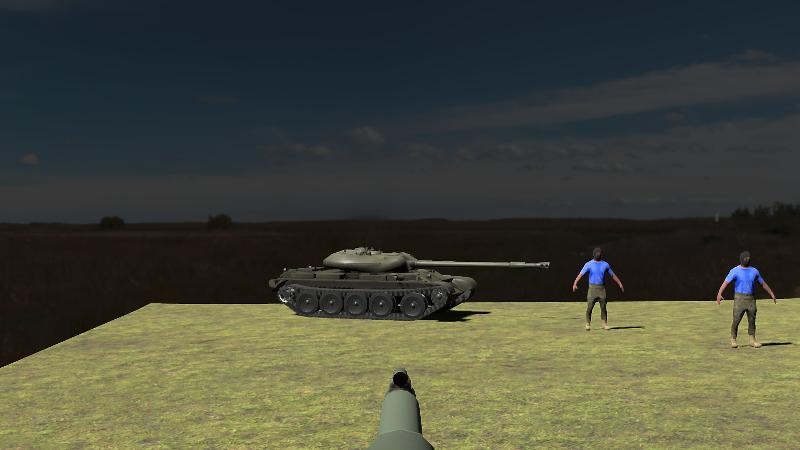Human: (717, 251, 776, 349), (572, 247, 624, 331)
Tank: (268, 246, 551, 320)
